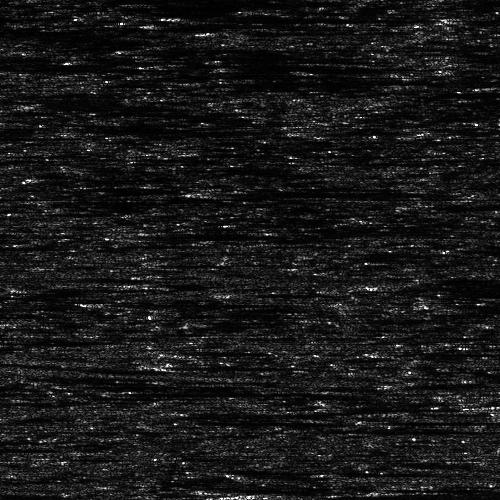rock: (164, 185, 247, 198), (98, 229, 171, 236), (473, 385, 500, 396), (239, 495, 280, 500), (0, 444, 9, 451)
shadow: (206, 185, 401, 198), (135, 229, 314, 236), (260, 495, 500, 500), (0, 397, 54, 406), (0, 444, 31, 451)
